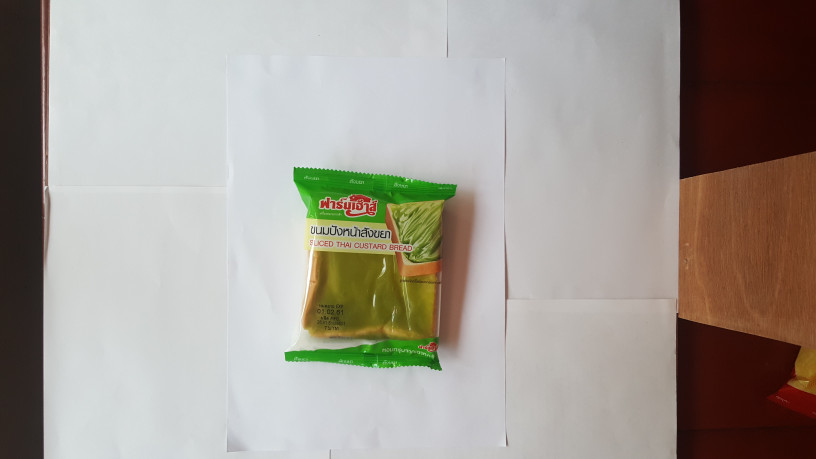farmhouse-bread-pandan: (273, 164, 460, 376)
